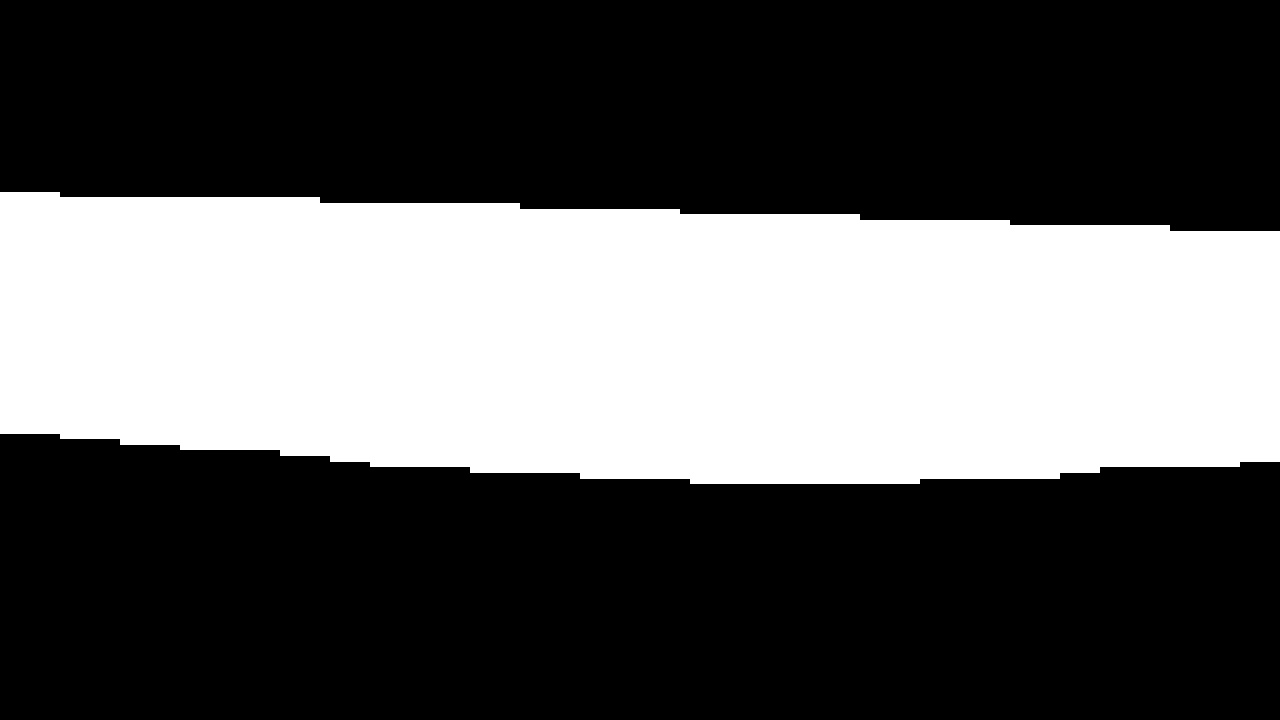Turbine: (8, 214, 1260, 469)
